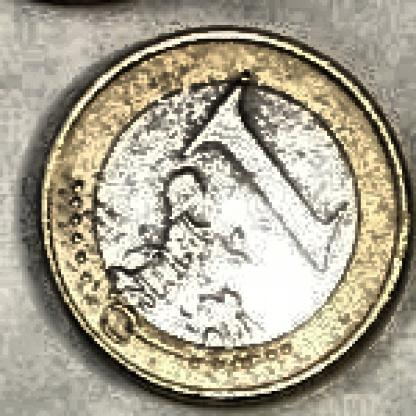coin: (40, 26, 415, 404)
